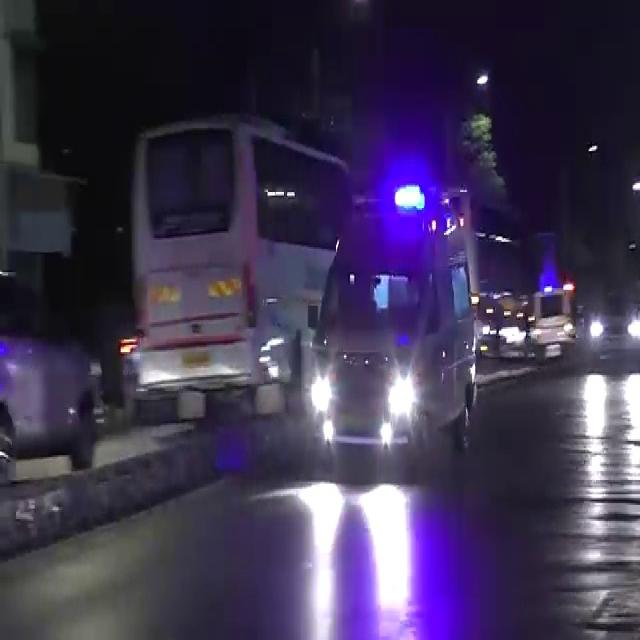ambulance: (306, 183, 496, 480)
